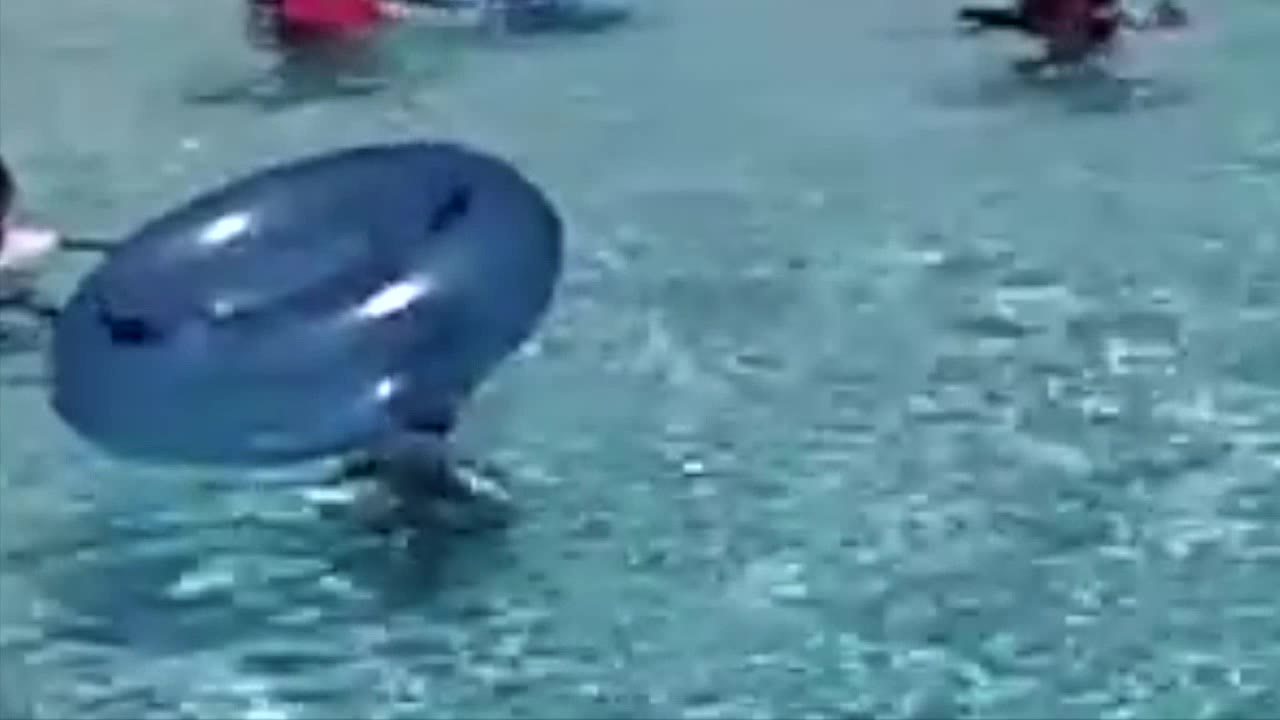Drowning: (339, 337, 499, 592)
